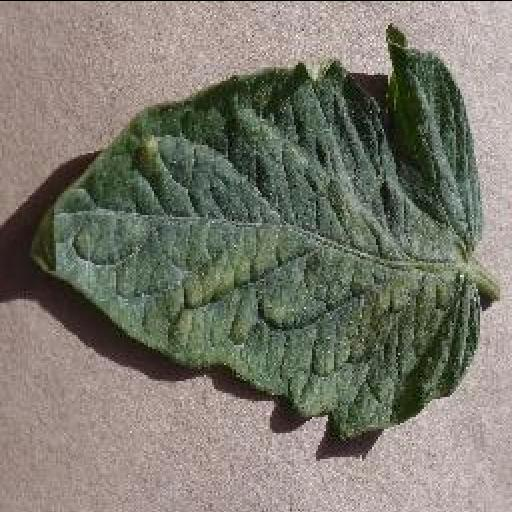disease_tomato: (32, 24, 486, 434)
